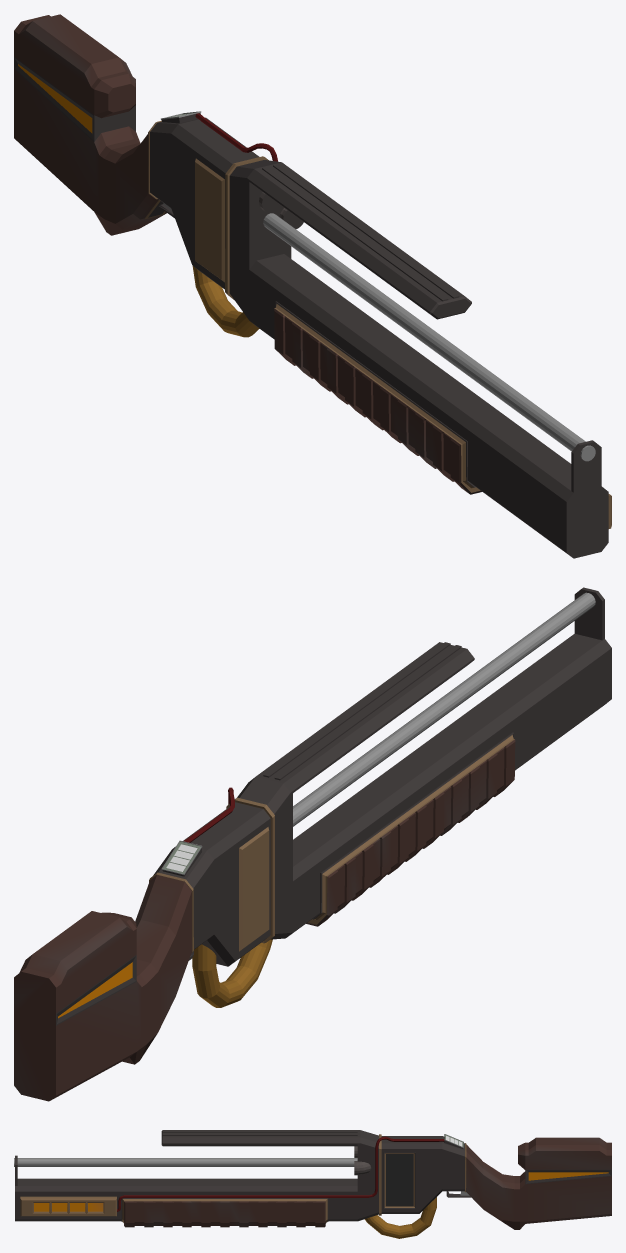
File: Player.glb
3 renders of one model, top to bottom at view 1: azimuth 30°, elevation 25°; view 2: azimuth 150°, elevation 25°; view 3: azimuth 270°, elevation 25°, orthographic. The views are drawn at different scales.
Parts seen in each view (by area): view 1: Cube.006; view 2: Cube.006; view 3: Cube.006.
Boxes of the visible parts, left/top/right/bottom form: Cube.006: left=14, top=14, right=611, bottom=558; Cube.006: left=14, top=587, right=611, bottom=1101; Cube.006: left=14, top=1130, right=611, bottom=1238.
Bounding box in the file's own units: 2.82 × 8.92 × 45.75.
